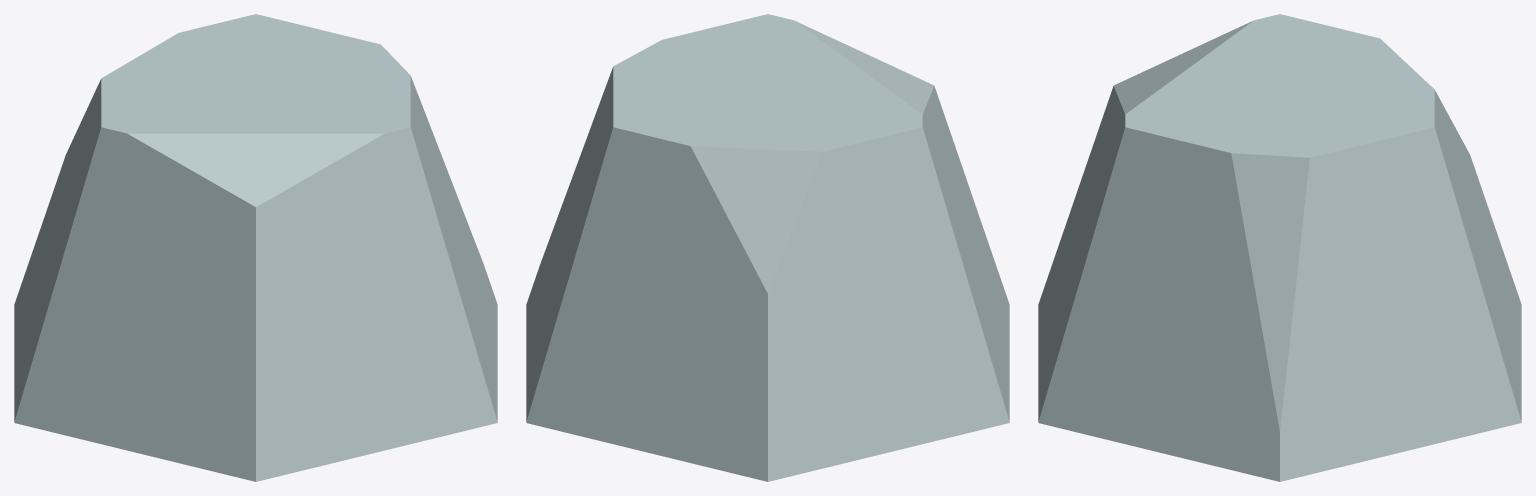
Rendered from stone_smallD.glb.
3 views of the same model, side by side, from view 1: azimuth 30°, elevation 25°; view 2: azimuth 150°, elevation 25°; view 3: azimuth 270°, elevation 25° (orthographic).
Parts seen in each view (by area): view 1: stone_smallD; view 2: stone_smallD; view 3: stone_smallD.
Part boxes in pixels (bbox=[...]): stone_smallD: bbox=[14, 14, 497, 481]; stone_smallD: bbox=[526, 14, 1009, 481]; stone_smallD: bbox=[1038, 14, 1521, 481].
Size of the model in its own units: 0.4257 by 0.2309 by 0.3687.
